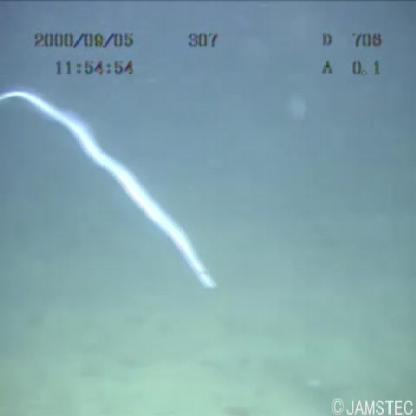Bio: (1, 82, 221, 289)
